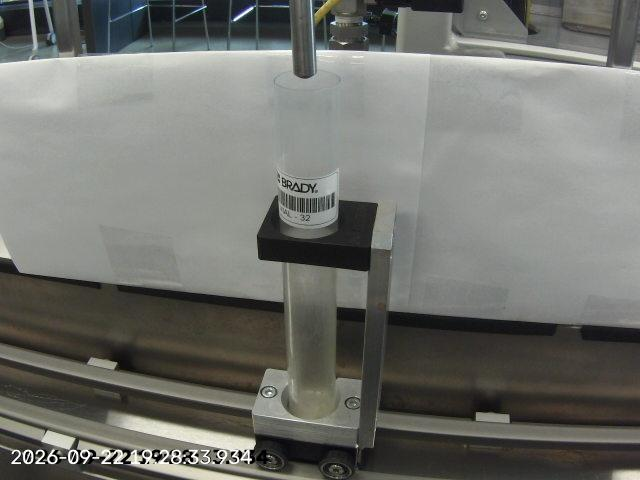vial: (263, 62, 352, 420)
